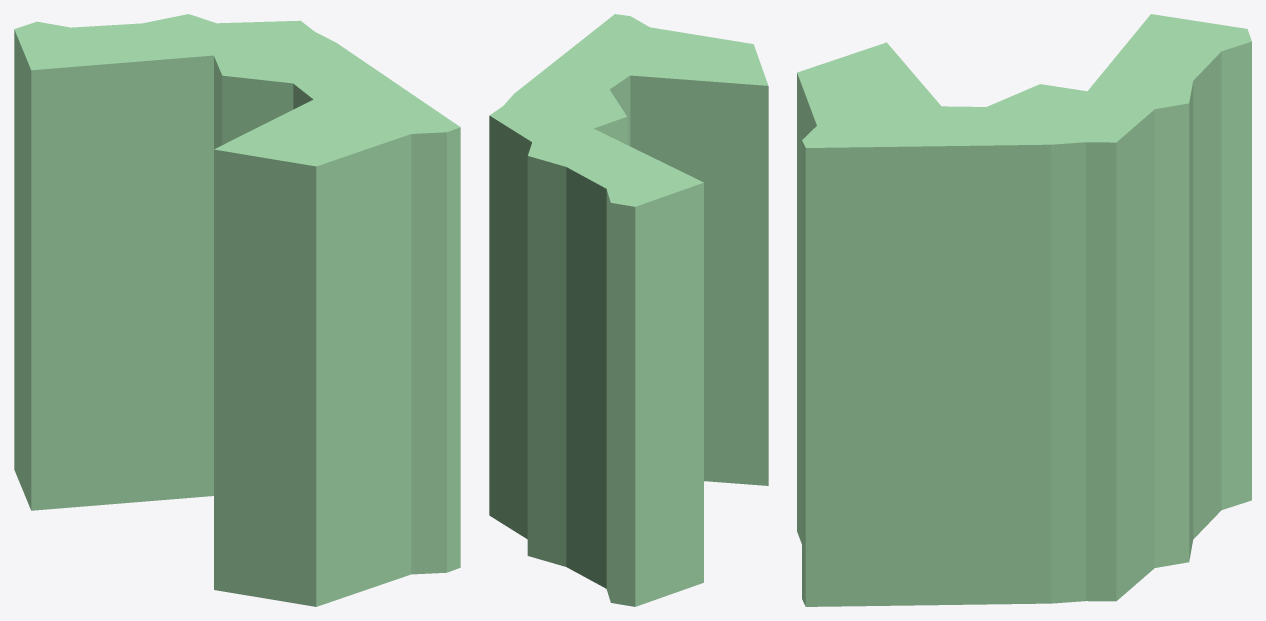
Rendered from highlands.glb.
The picture shows the model from 3 angles, left to right: view 1: azimuth 30°, elevation 25°; view 2: azimuth 150°, elevation 25°; view 3: azimuth 270°, elevation 25°; orthographic projection. The views are drawn at different scales.
Parts seen in each view (by area): view 1: Plane.068; view 2: Plane.068; view 3: Plane.068.
Boxes of the visible parts, x1,y1,x2,y2 form: Plane.068: [14, 14, 460, 606]; Plane.068: [489, 14, 768, 606]; Plane.068: [797, 14, 1251, 606].
Size of the model in its own units: 0.2416 by 0.3856 by 0.3464.
